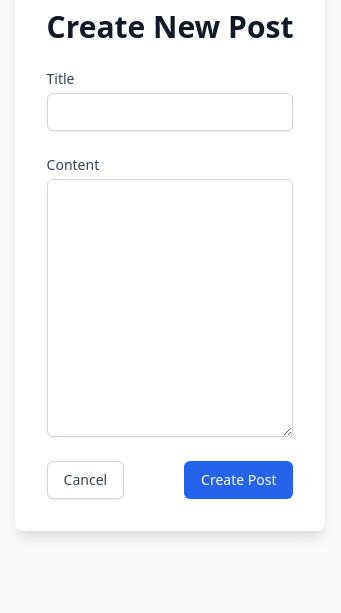
Test case: PostCreatePage › should show validation errors for empty fields
Click the button "Create Post": [239, 480] box x1=184 y1=461 x2=293 y2=499
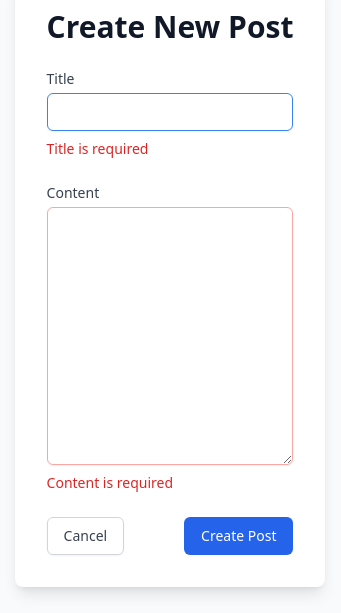
Expected: the text "Title is required" is shown, x1=47 y1=139 x2=148 y2=158
Expected: the text "Content is required" is shown, x1=47 y1=473 x2=173 y2=492
